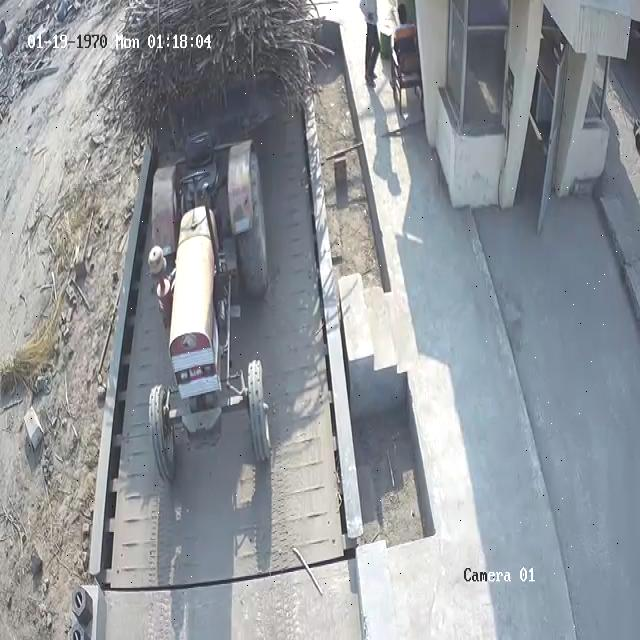Tratores - v5 YOLO V8L 2024-11-13: (151, 147, 280, 482)
